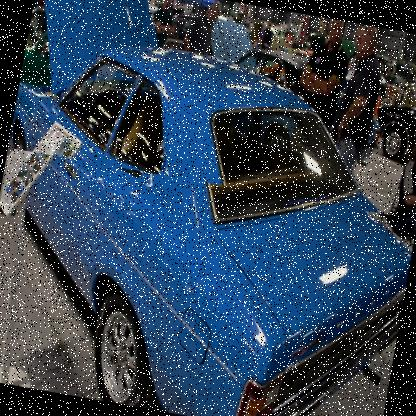Car: (0, 26, 415, 415), (8, 0, 415, 223)
